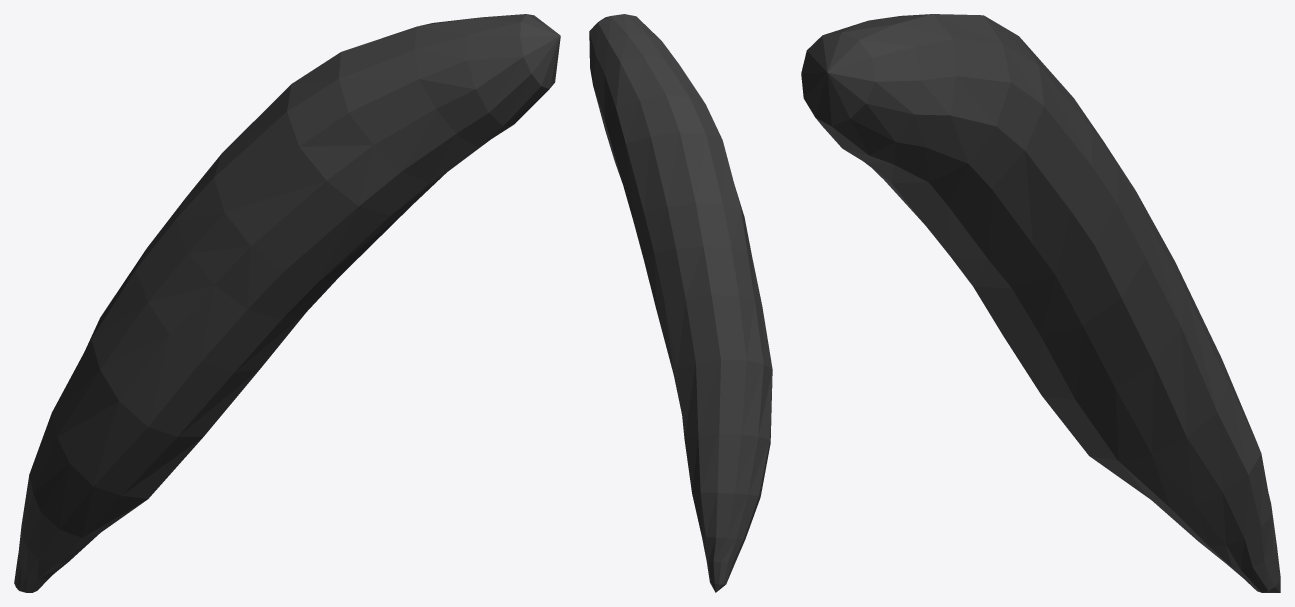
File: MedDigitalFlexor.glb
The picture shows the model from 3 angles, left to right: view 1: azimuth 30°, elevation 25°; view 2: azimuth 150°, elevation 25°; view 3: azimuth 270°, elevation 25°; orthographic projection. The views are drawn at different scales.
Parts seen in each view (by area): view 1: MedDigitalFlexor; view 2: MedDigitalFlexor; view 3: MedDigitalFlexor.
Part boxes in pixels (x1,y1,x2,y2): MedDigitalFlexor: (14, 14, 560, 592); MedDigitalFlexor: (589, 14, 772, 592); MedDigitalFlexor: (801, 14, 1280, 592).
Size of the model in its own units: 1.24 by 1.97 by 1.15.
Materials: 1 (1 with a texture image).
